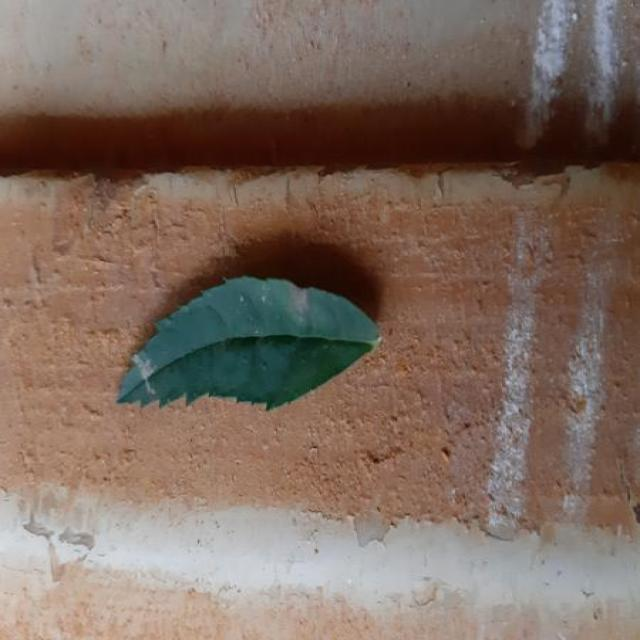marigold: (117, 276, 378, 408)
